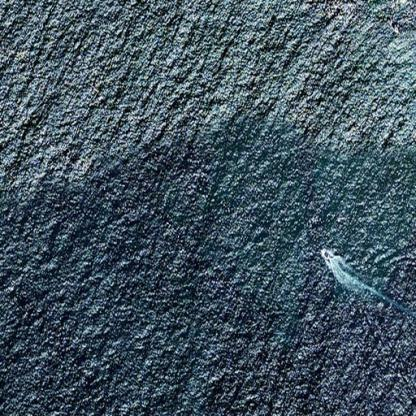ship: (318, 247, 332, 261)
